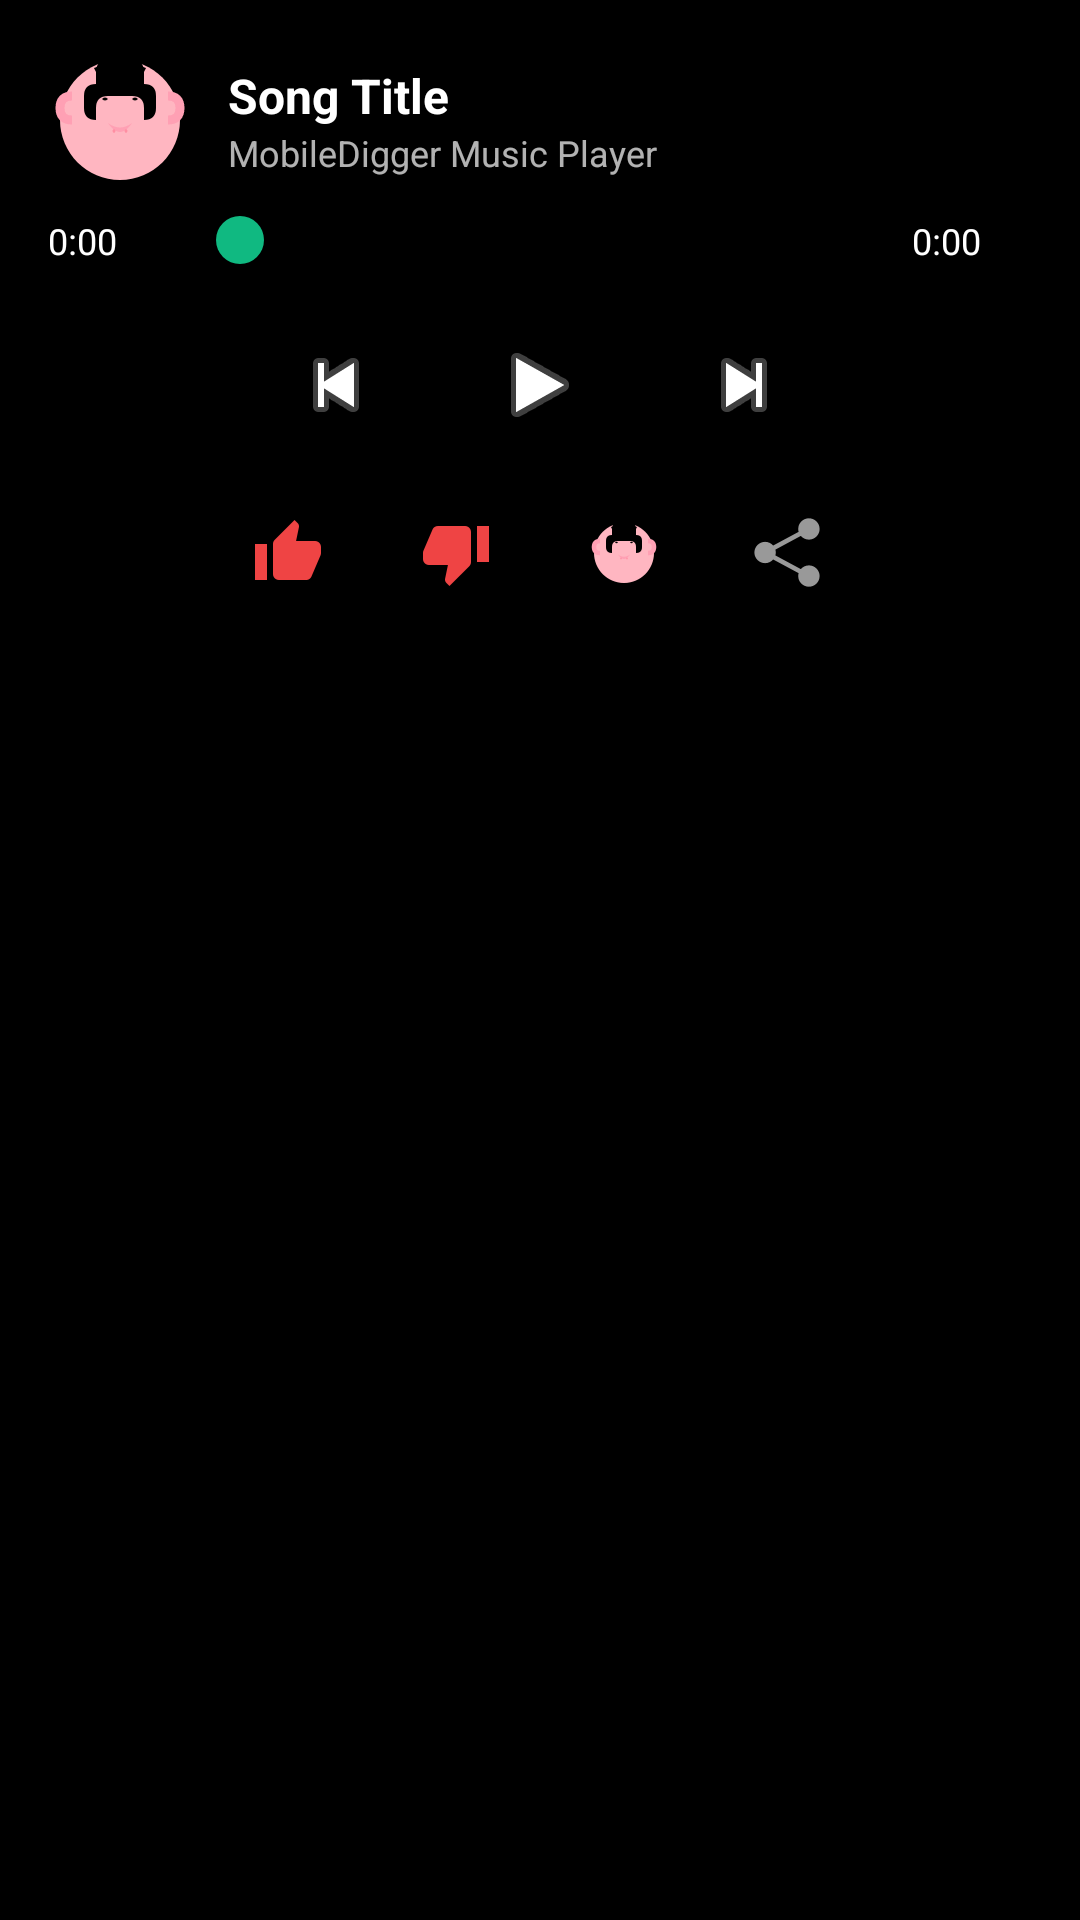

Named icons in this screenshot (1080 x 1920) and their bounding boxes, (x1, y1, x2, y2):
Dislike: (423, 526, 489, 586)
Like: (255, 520, 321, 580)
Next: (721, 358, 767, 412)
pig headphones: (55, 64, 185, 180)
Play/Pause: (511, 353, 569, 417)
Previous: (313, 358, 359, 412)
Share: (754, 518, 820, 587)
